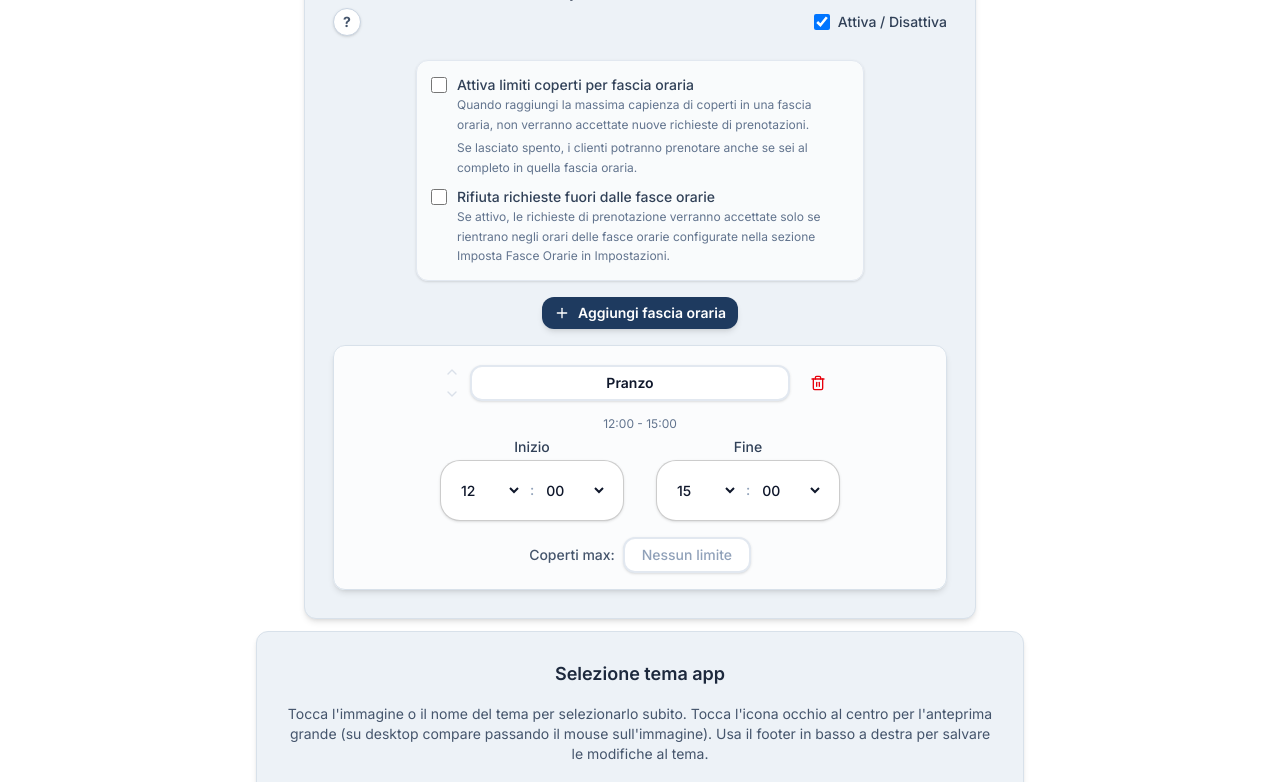
Test: settings-time-slots M4 — fasce Classic in RestaurantSettingsTab › elimina fascia: modale in-app Annulla mantiene la fascia
(page scrolled)
Click the button named "rimuovi fascia pranzo" at coordinates (818, 383), box [798,369,838,397]
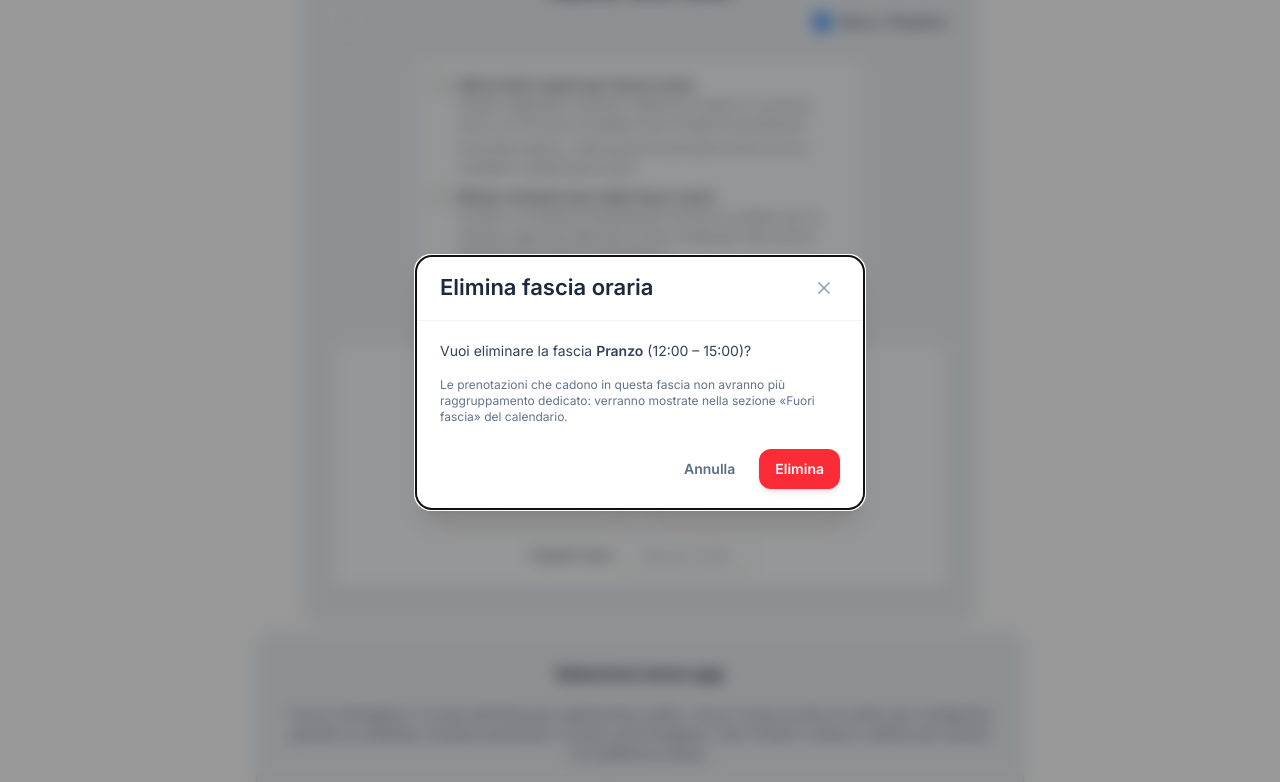
Check: the text "Vuoi eliminare la fascia Pranzo (12:00 – 15:00)?" is shown, box [440,342,751,358]
Click the button "Annulla" at coordinates (710, 468), box [668,448,751,488]
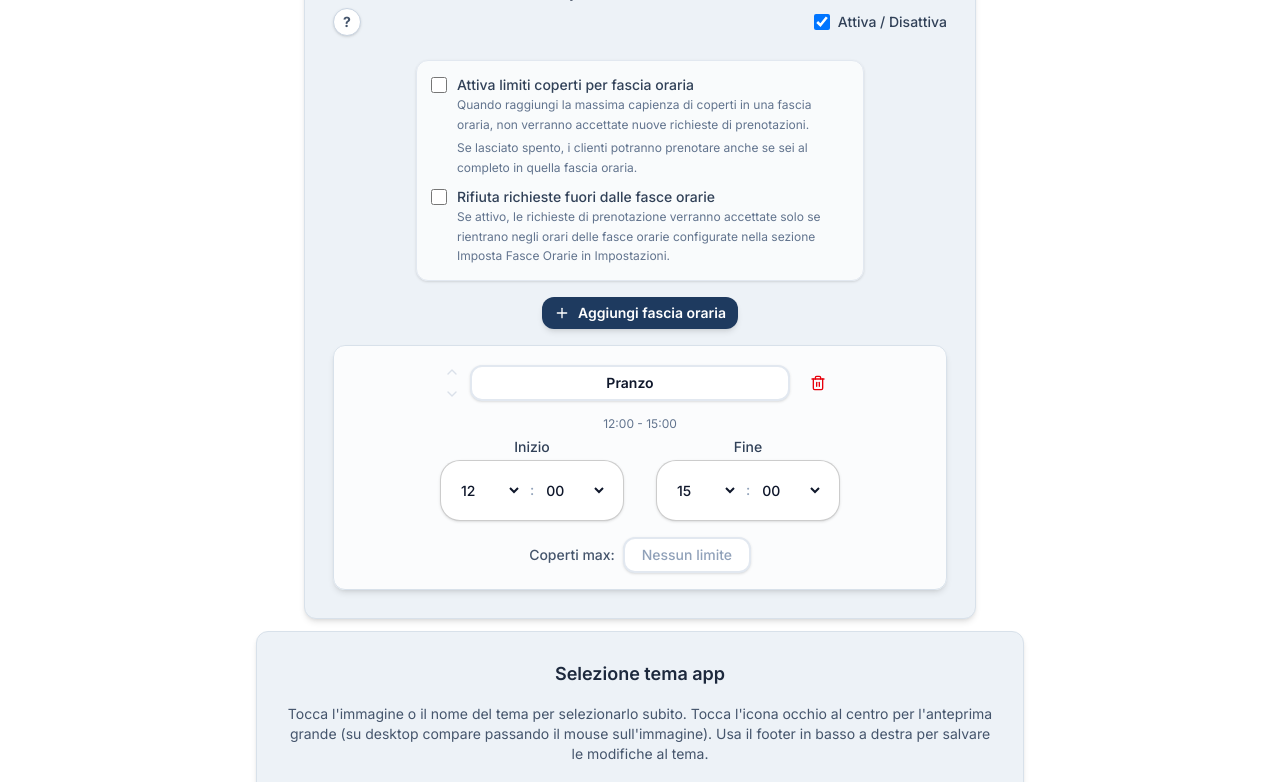
Check: the field named "nome fascia 1" is shown, box [470,365,790,401]
Check: the heading "Elimina fascia oraria" is gone
